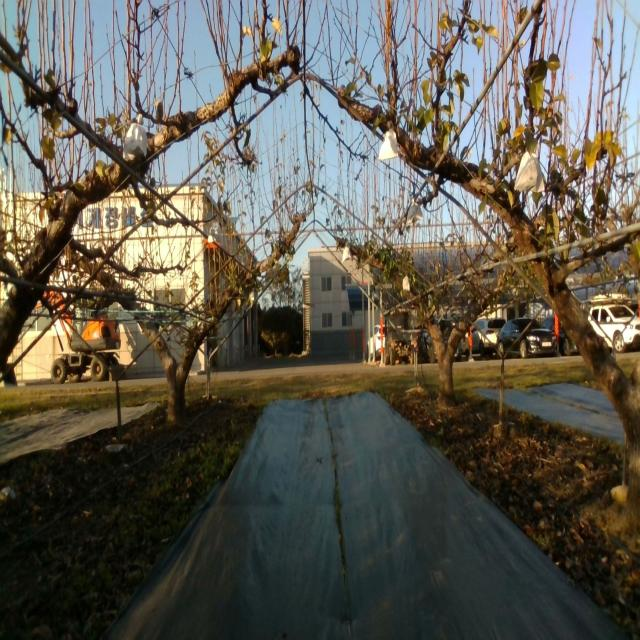pearbags: (513, 150, 546, 195), (123, 122, 148, 160), (378, 128, 399, 160), (405, 198, 424, 226), (206, 221, 224, 245)
